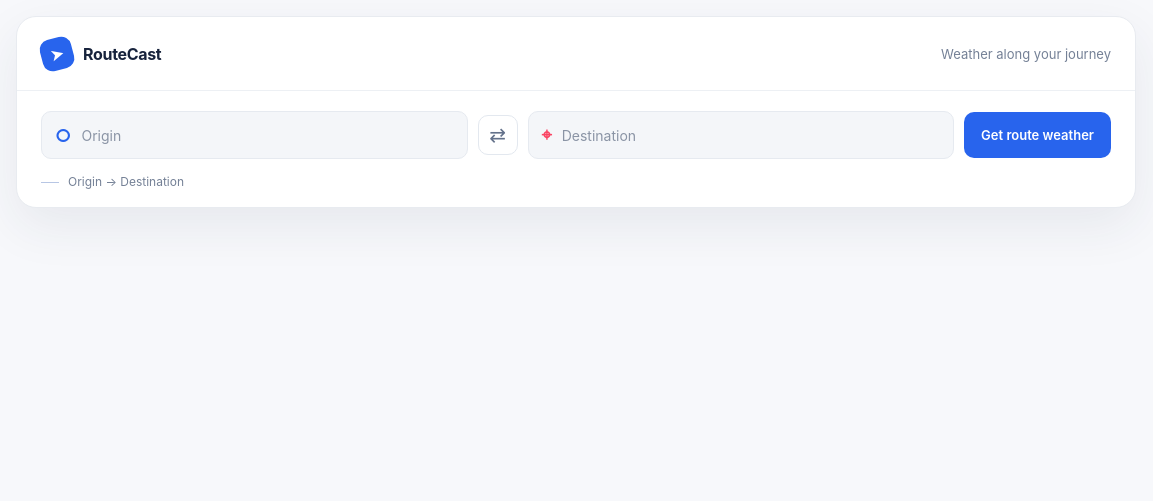
submits the origin and destination to the route weather API
Type "Austin, TX" into the dropdown named "Origin" at (268, 135), box [82,126,454,144]
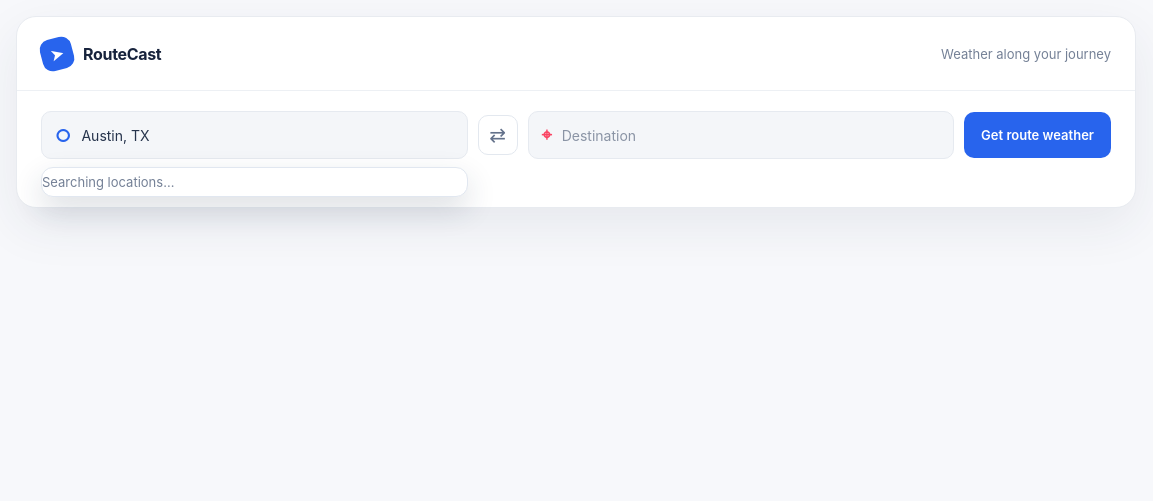
Type "Houston, TX" into the dropdown named "Destination" at (751, 135), box [562,126,940,144]
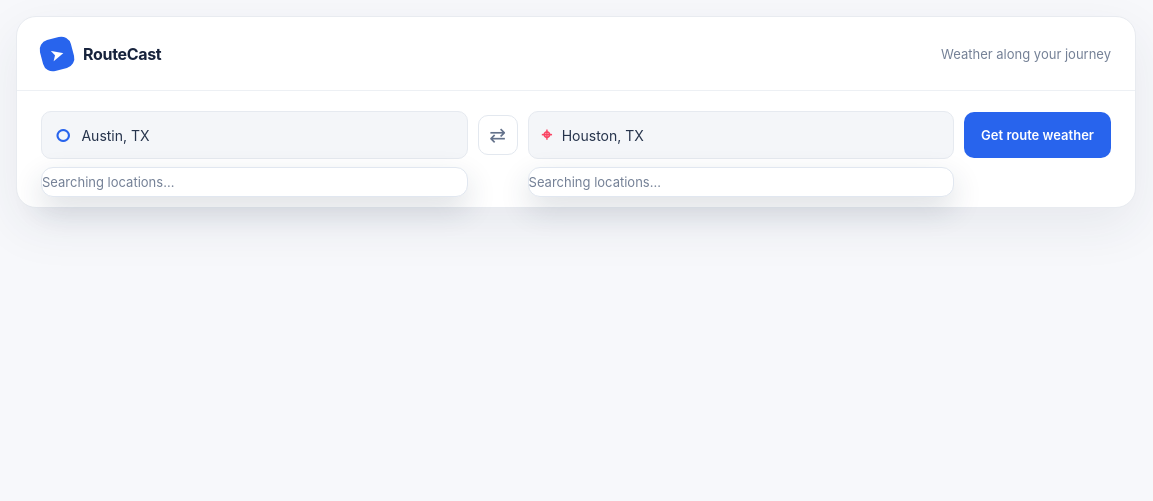
Click the button "Get route weather" at (1038, 135), box [964,112,1111,158]
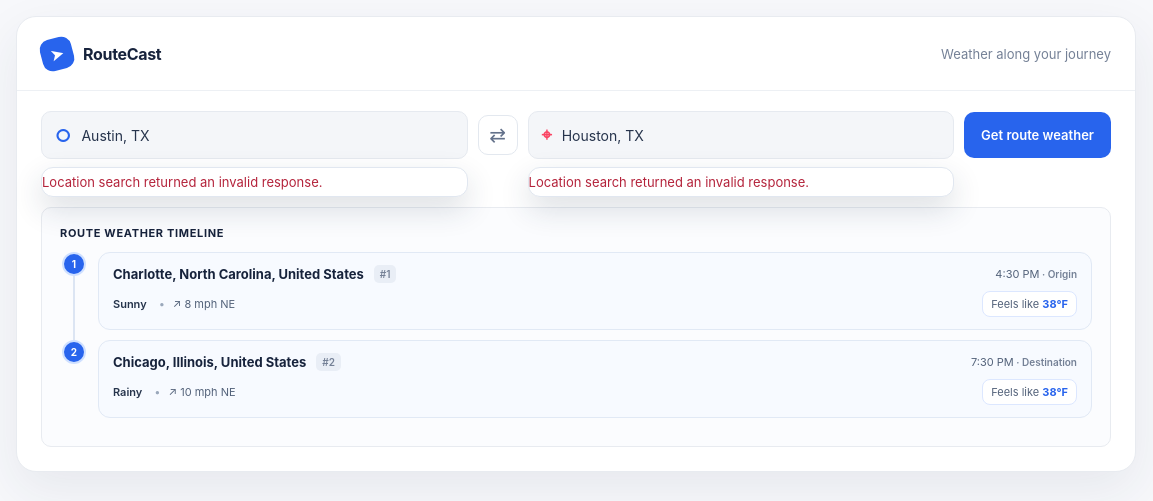
Now the text "Sunny" is shown, box [113,297,147,311]
